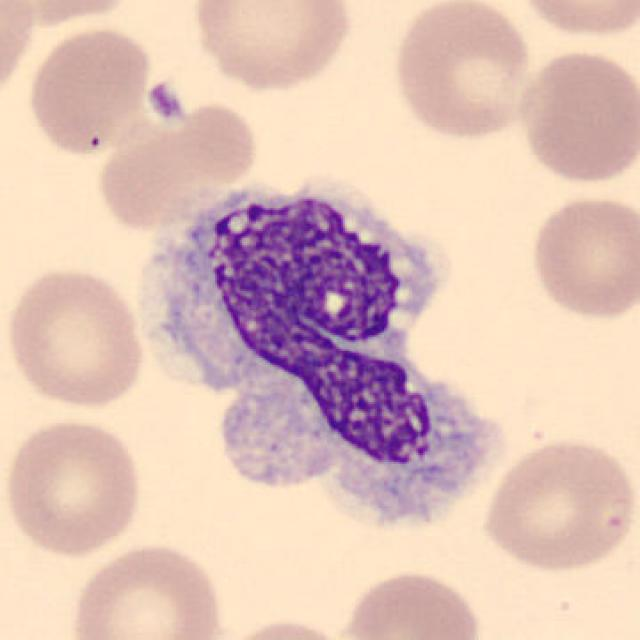Monocyte: (127, 164, 486, 539)
Platelets: (144, 81, 187, 124)
RBC: (89, 93, 259, 231), (478, 432, 636, 575), (2, 262, 149, 412), (387, 0, 537, 145), (0, 414, 148, 559), (23, 21, 155, 159), (512, 45, 638, 188), (65, 539, 227, 640), (186, 0, 357, 93), (524, 190, 638, 324), (342, 566, 484, 640), (510, 0, 638, 42), (0, 0, 144, 30), (0, 0, 39, 108), (206, 613, 359, 640)
